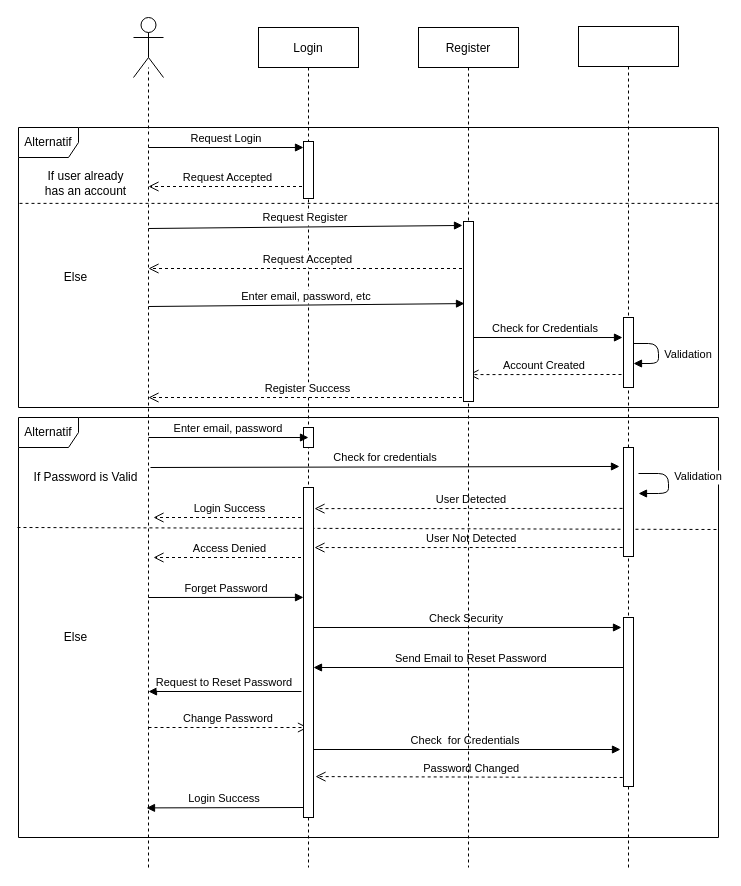
This 741x886 diagram has some shape labels left out. The shapes that lost their labels are listed below. From the top down, each one's centre as x and y in pixels, then its label:
At point (148, 47): "User (Pasien & Dokter)".
At point (628, 447): "User Management".
